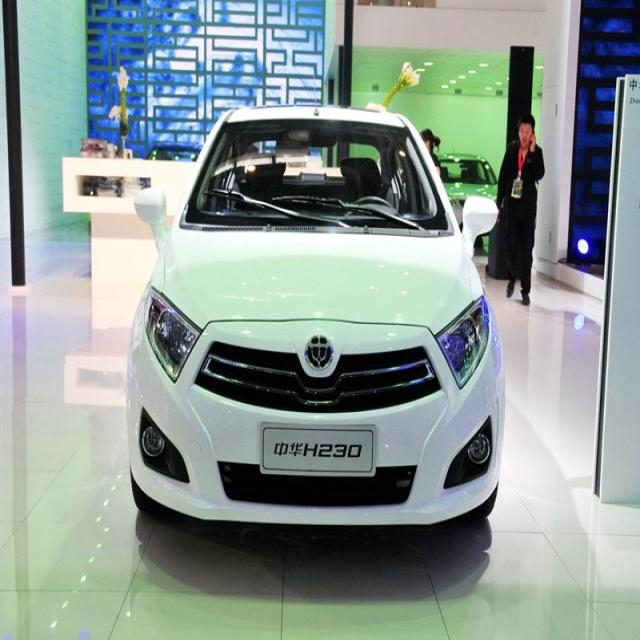front_bumper: (125, 349, 503, 528)
front_glass: (183, 120, 444, 233)
front_left_side_light: (434, 291, 491, 391)
front_left_side_mirror: (459, 194, 500, 256)
front_right_side_light: (144, 283, 203, 385)
front_right_side_mirror: (134, 184, 172, 248)
